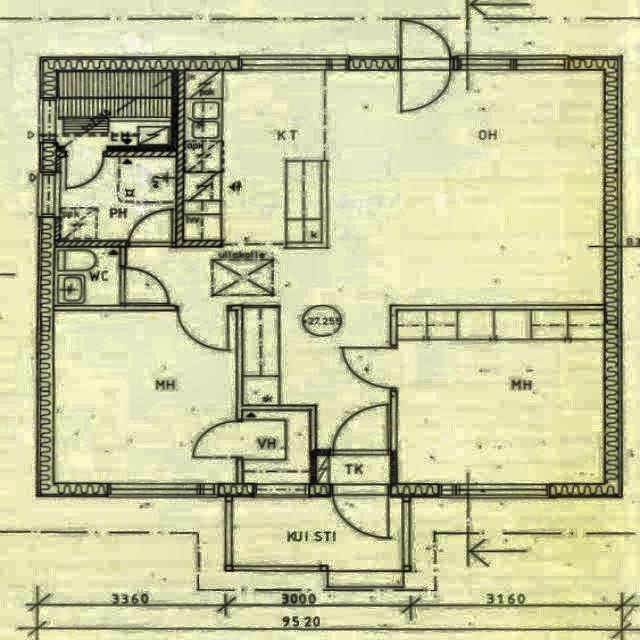room: (398, 311, 604, 483), (55, 310, 236, 482), (62, 159, 175, 241), (60, 72, 172, 147), (244, 411, 309, 483), (55, 248, 119, 305), (318, 456, 389, 483)
